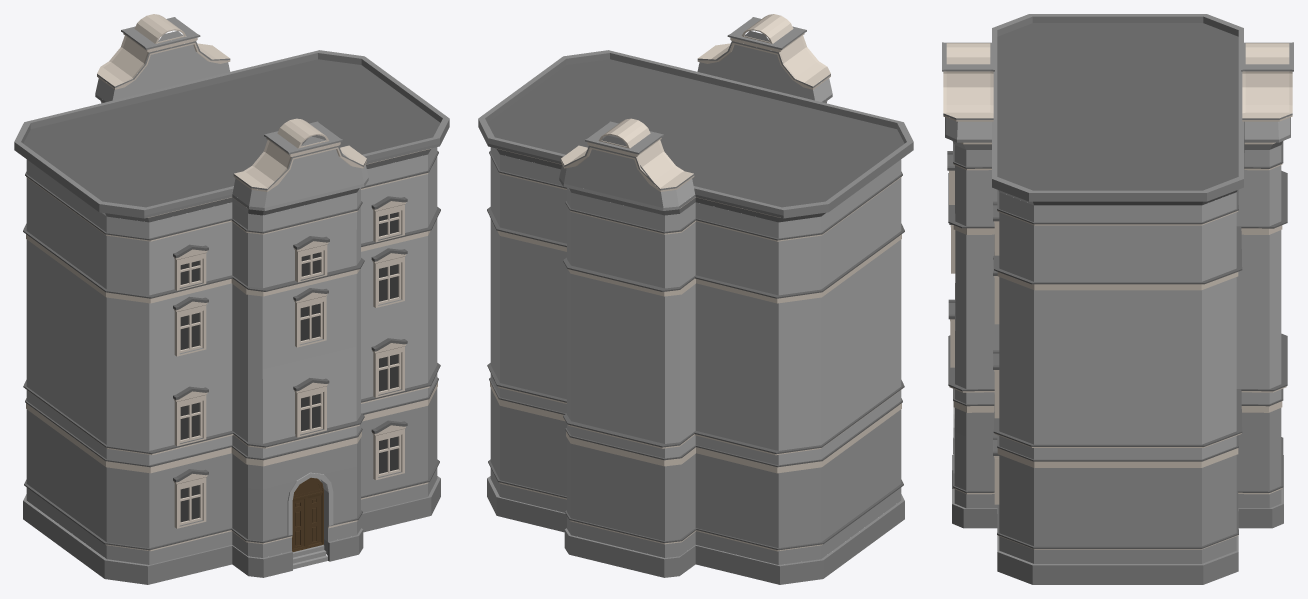
File: Building4.glb
The picture shows the model from 3 angles, left to right: view 1: azimuth 30°, elevation 25°; view 2: azimuth 150°, elevation 25°; view 3: azimuth 270°, elevation 25°; orthographic projection. The views are drawn at different scales.
Parts seen in each view (by area): view 1: Building4; view 2: Building4; view 3: Building4.
Part boxes in pixels (x1=…): Building4: x1=14, y1=14, x2=449, y2=584; Building4: x1=478, y1=14, x2=913, y2=584; Building4: x1=942, y1=14, x2=1293, y2=584.
Size of the model in its own units: 464 by 549 by 386.
